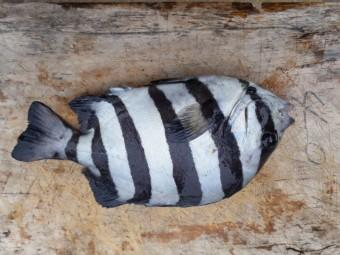fish: (12, 75, 295, 206)
